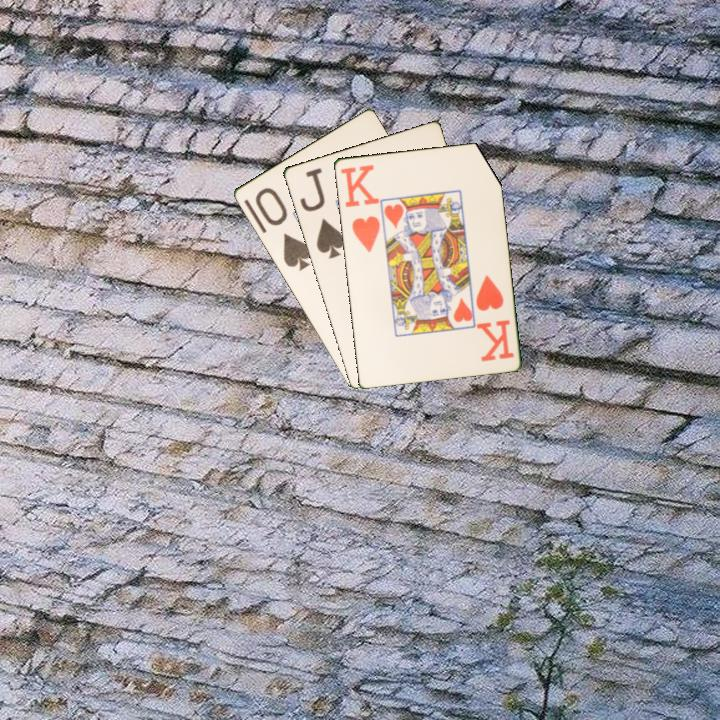10s: (251, 184, 314, 274)
Js: (296, 164, 347, 261)
Kh: (336, 161, 383, 255), (472, 271, 517, 364)
